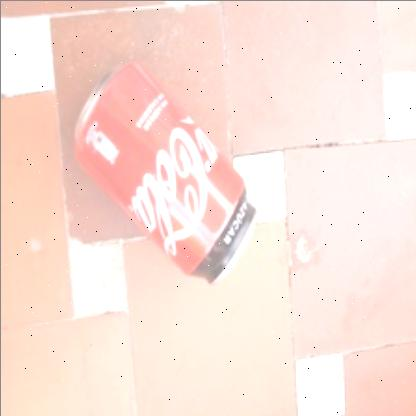Can: (70, 62, 258, 286)
